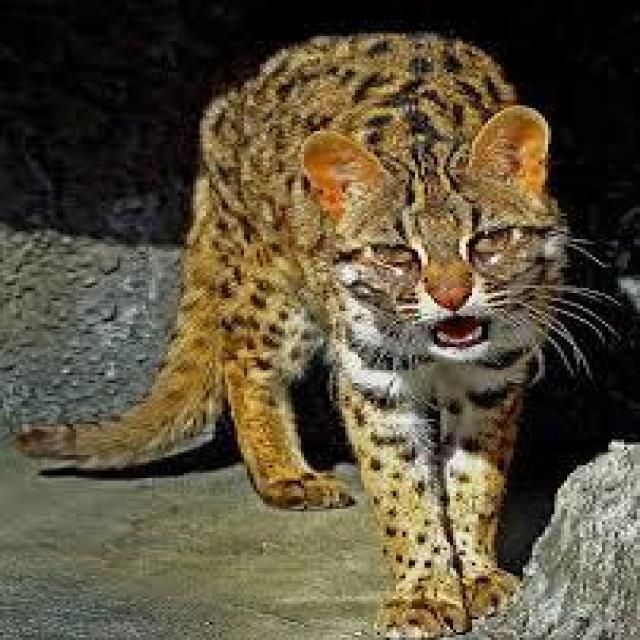leopard: (163, 33, 633, 532)
